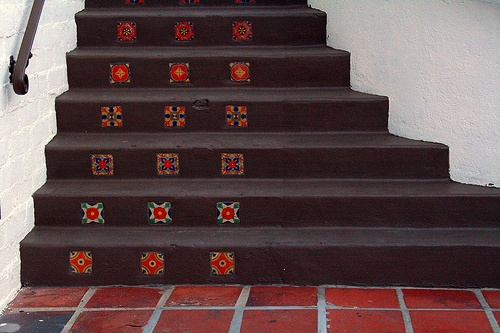stairs_up: (23, 7, 500, 292)
